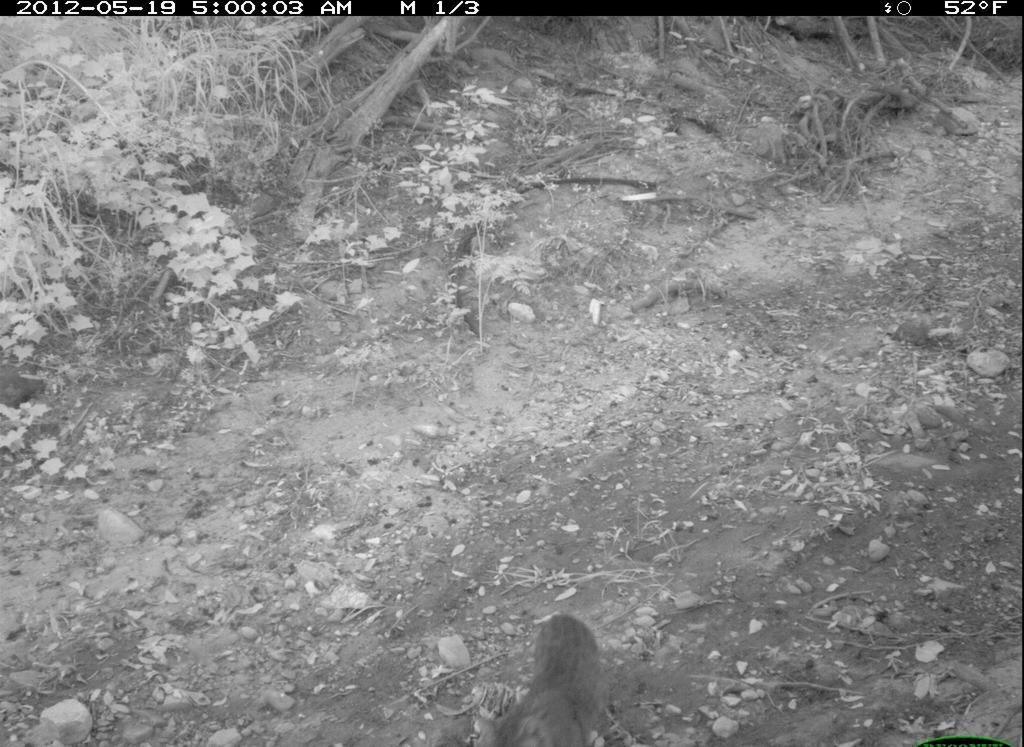cat: (470, 609, 617, 747)
